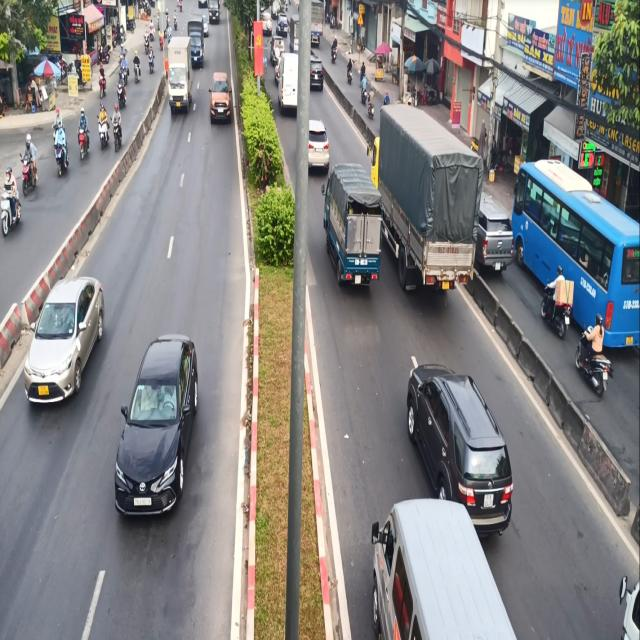bus: (510, 160, 640, 352)
car: (400, 364, 515, 527), (113, 324, 203, 531), (22, 261, 105, 428), (208, 66, 235, 127)
motor: (15, 135, 40, 201)
truck: (322, 161, 382, 288)
